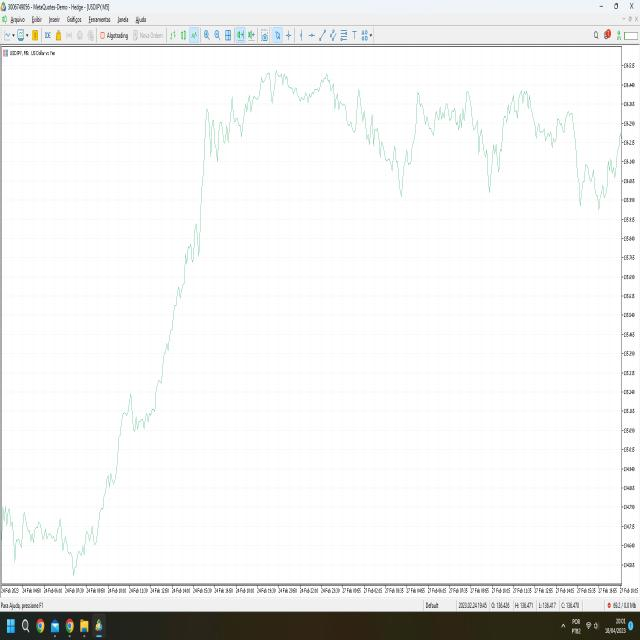bandeira_alta: (164, 214, 206, 396), (198, 92, 242, 235), (115, 385, 155, 483), (96, 448, 119, 554)
oco_inv: (458, 76, 519, 221), (379, 121, 416, 214)
